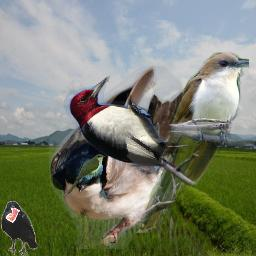Crow: (1, 201, 38, 256)
Cuckoo: (135, 50, 249, 233), (67, 154, 106, 195)
Swallow: (49, 66, 185, 249)
Woodpecker: (63, 75, 195, 175)
